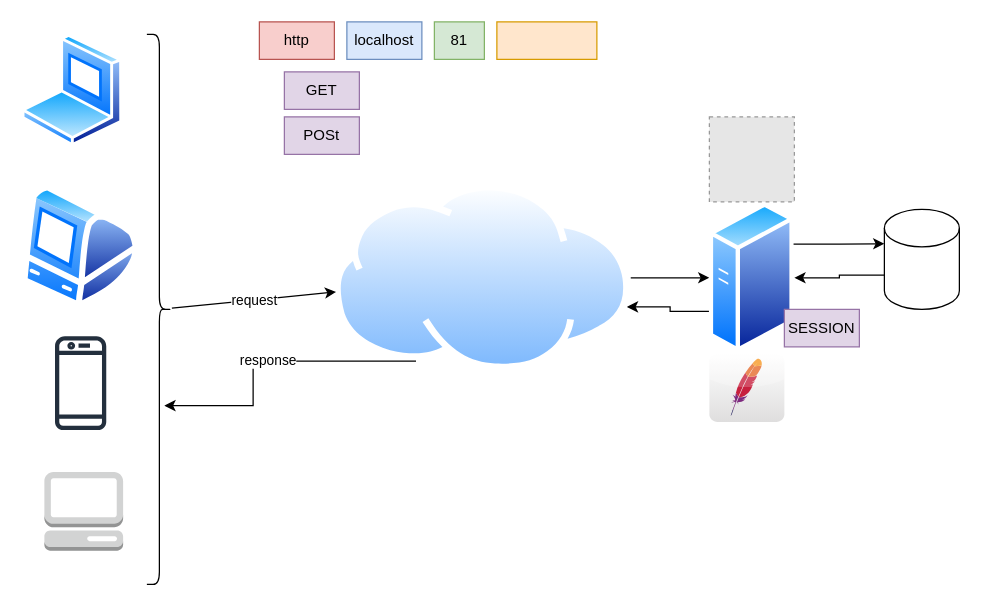
Image size: 981x606. Some labels were removed from this diagram. Grey dashed boxes stand in for pictures. The shapes that lost their labels are listed below. From the top down, each one's centre as x and y in pixels, then its label:
At pixel 546 40: "lezione03".
At pixel 921 258: "DB".
